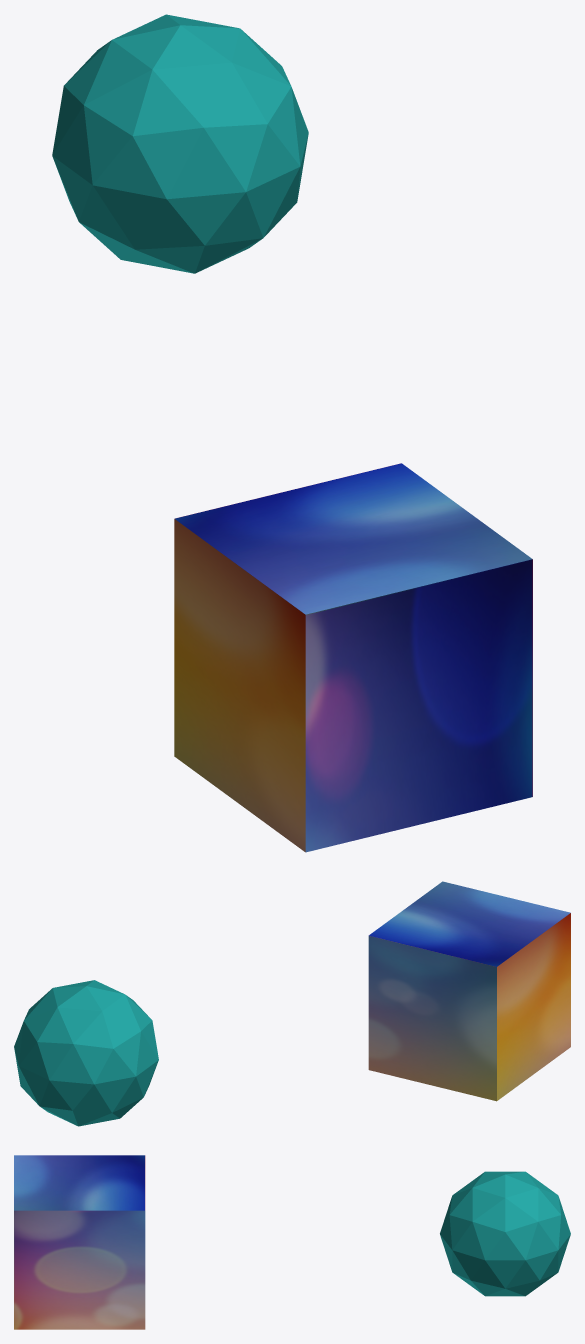
The model's file is texturedcube.obj.
The picture shows the model from 3 angles, top to bottom: view 1: azimuth 30°, elevation 25°; view 2: azimuth 150°, elevation 25°; view 3: azimuth 270°, elevation 25°; orthographic projection. The views are drawn at different scales.
Parts seen in each view (by area): view 1: Cube, Icosphere; view 2: Cube, Icosphere; view 3: Cube, Icosphere.
Boxes of the visible parts, <box> form: Cube: <box>174,463,532,852</box>; Icosphere: <box>52,14,308,273</box>; Cube: <box>368,881,570,1101</box>; Icosphere: <box>14,980,158,1126</box>; Cube: <box>14,1155,145,1329</box>; Icosphere: <box>440,1171,570,1296</box>.
Bounding box in the file's own units: 4.17 × 3.18 × 8.49.
